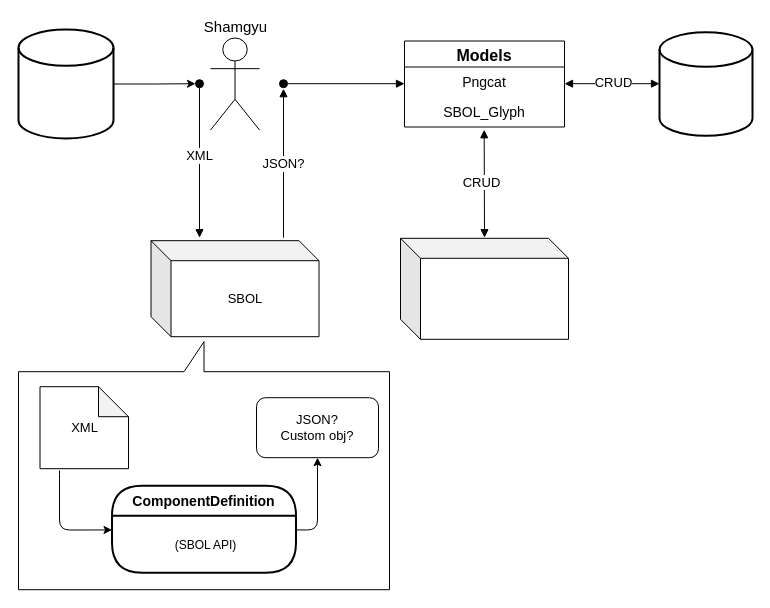
Image size: 770x608. Some labels were removed from this diagram. Each missing label, with the centre of its shape:
GenBank: point (65, 83)
MongoDB: point (705, 83)
React: point (484, 288)
